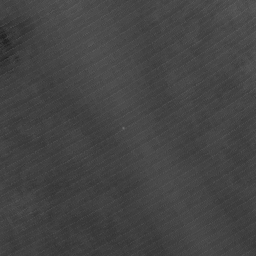Target: (119, 124, 127, 131)
